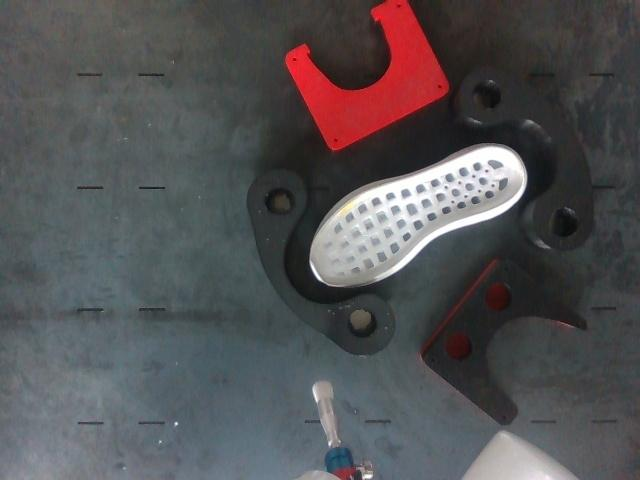shoes: (310, 145, 524, 287)
